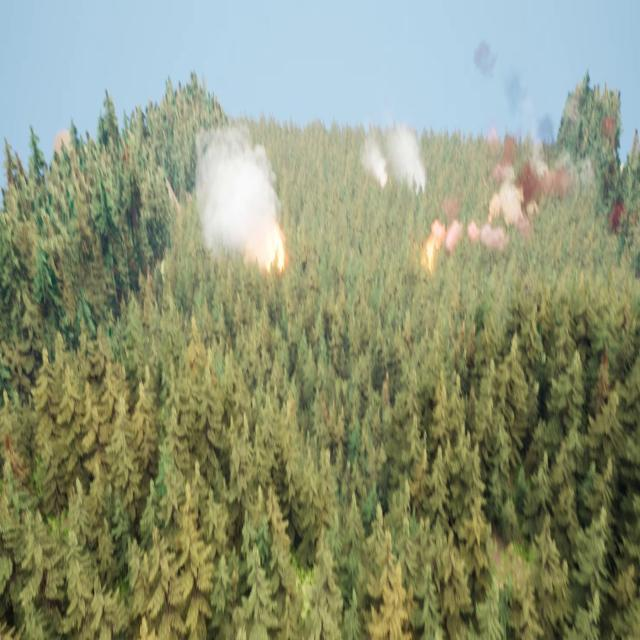fire: (265, 226, 289, 277)
smoke: (417, 138, 567, 270), (194, 120, 278, 264), (363, 124, 426, 198)
